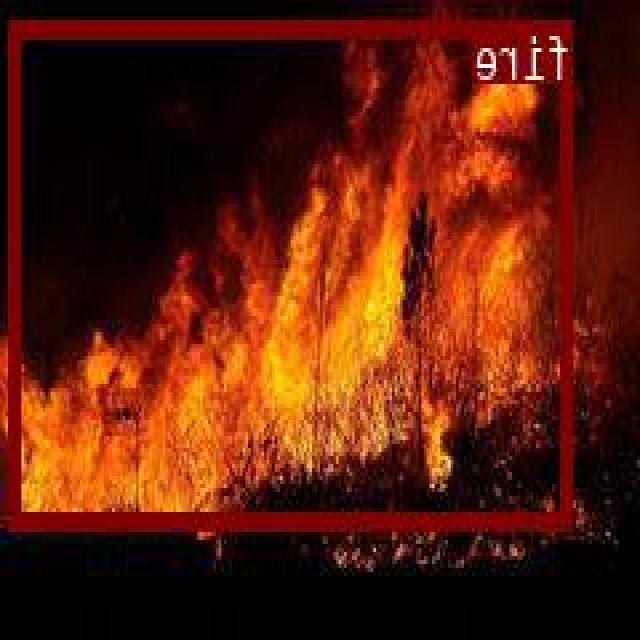fire: (11, 17, 576, 525)
